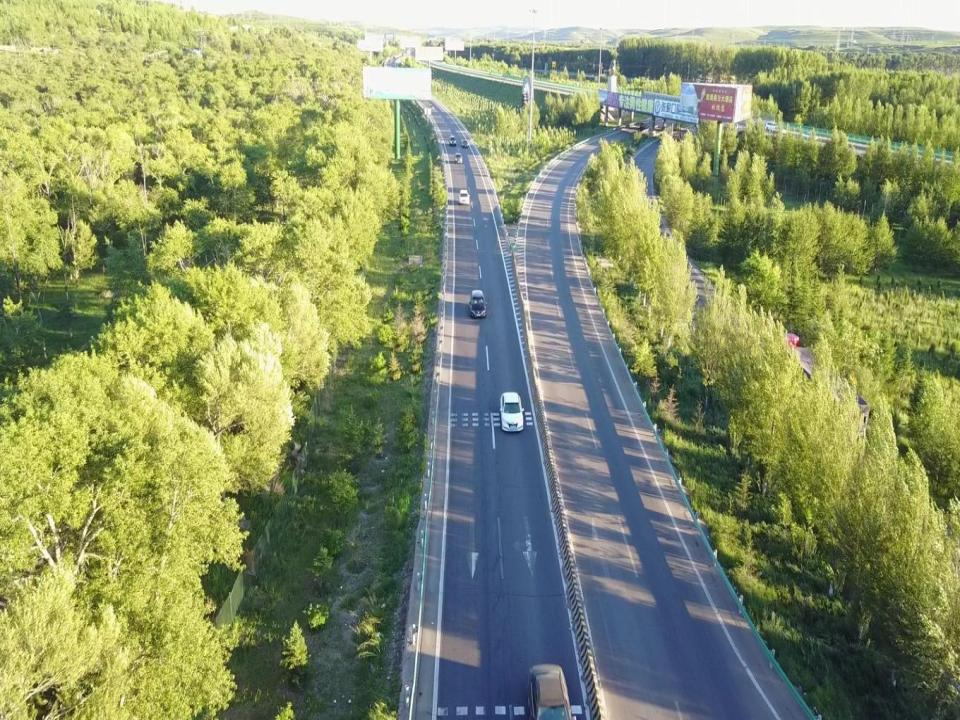car: (527, 663, 576, 720), (500, 391, 524, 433), (469, 289, 487, 317), (458, 189, 470, 205), (454, 152, 462, 164), (449, 135, 457, 146), (462, 139, 468, 149)
